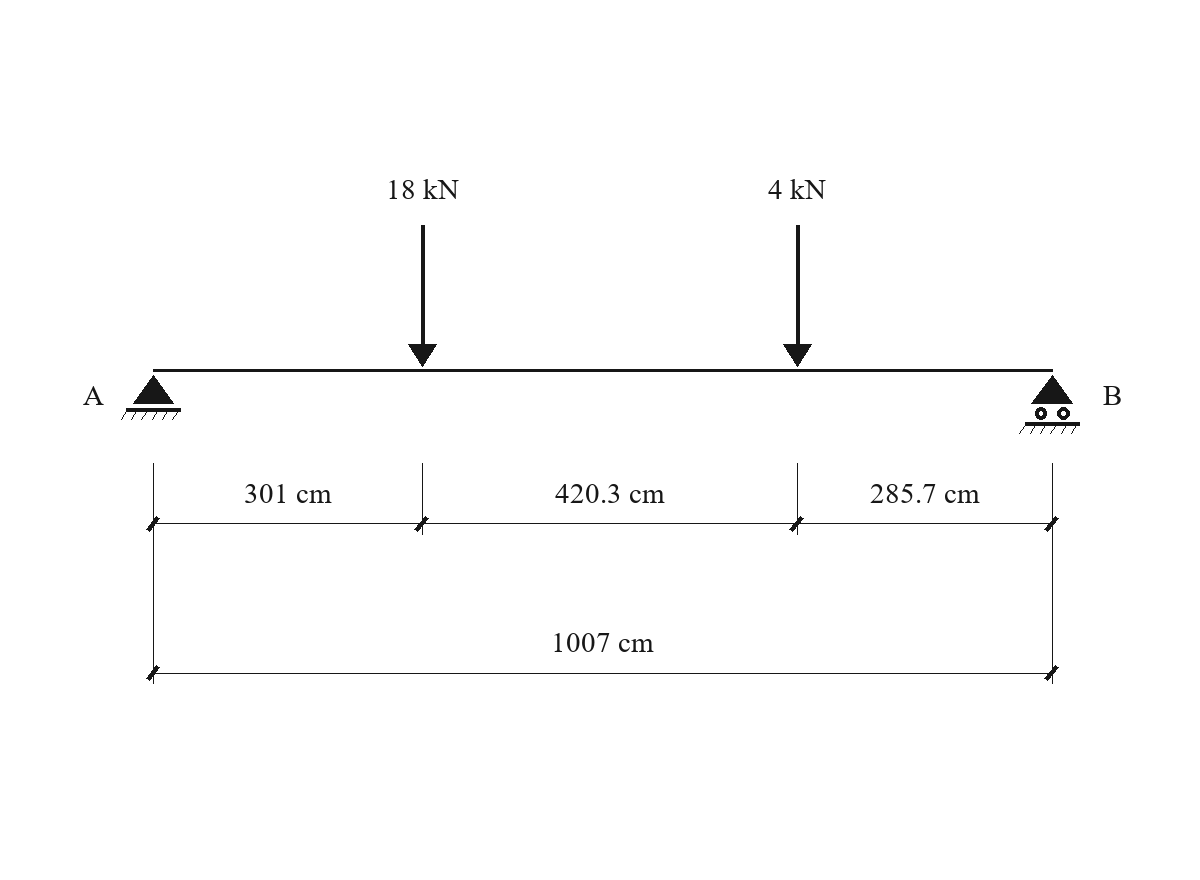pin_support: (121, 375, 181, 420)
point_load: (408, 225, 437, 367), (783, 225, 812, 367)
roller_support: (1019, 375, 1080, 434)
